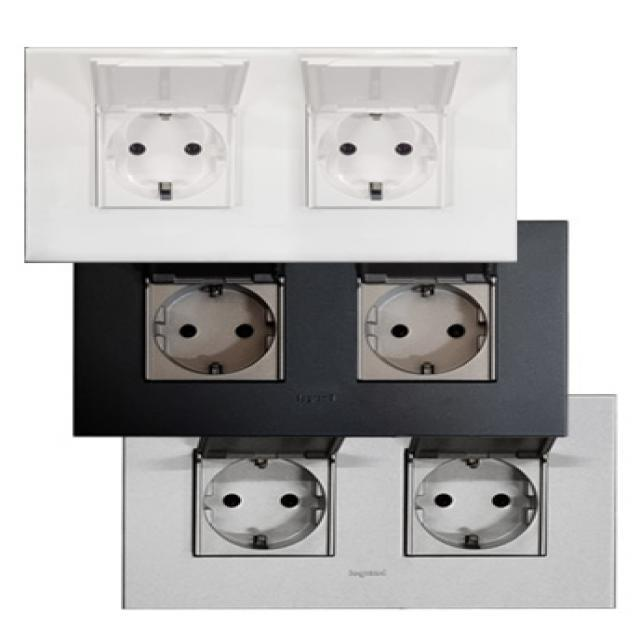typeb: (18, 37, 528, 247), (116, 443, 597, 601), (56, 272, 575, 417)
